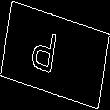P_S: (39, 26, 71, 84)
